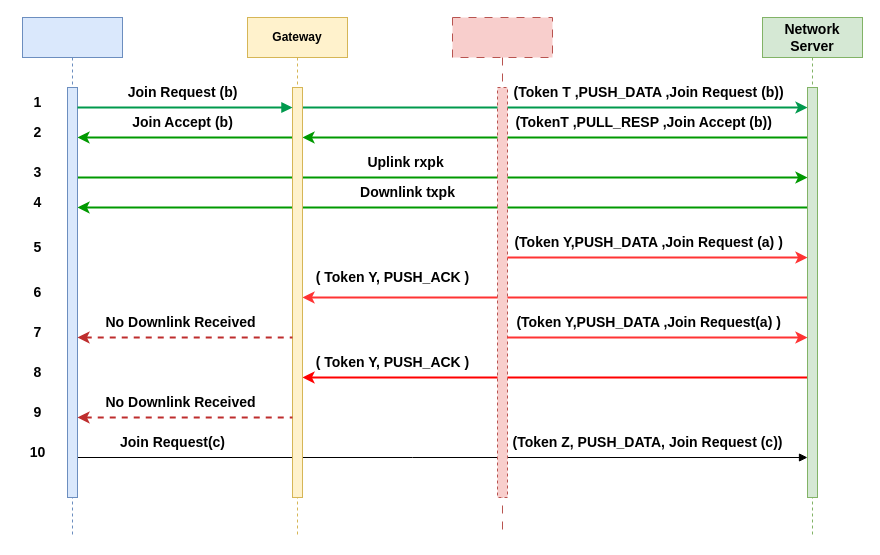
Image size: 880x555. Some labels were removed from this diagram. The box of each missing label's shape, as (x1, y1, x2, y2) in pixels:
Malicious Gateway: (452, 16, 552, 538)
Node: (22, 16, 122, 538)
